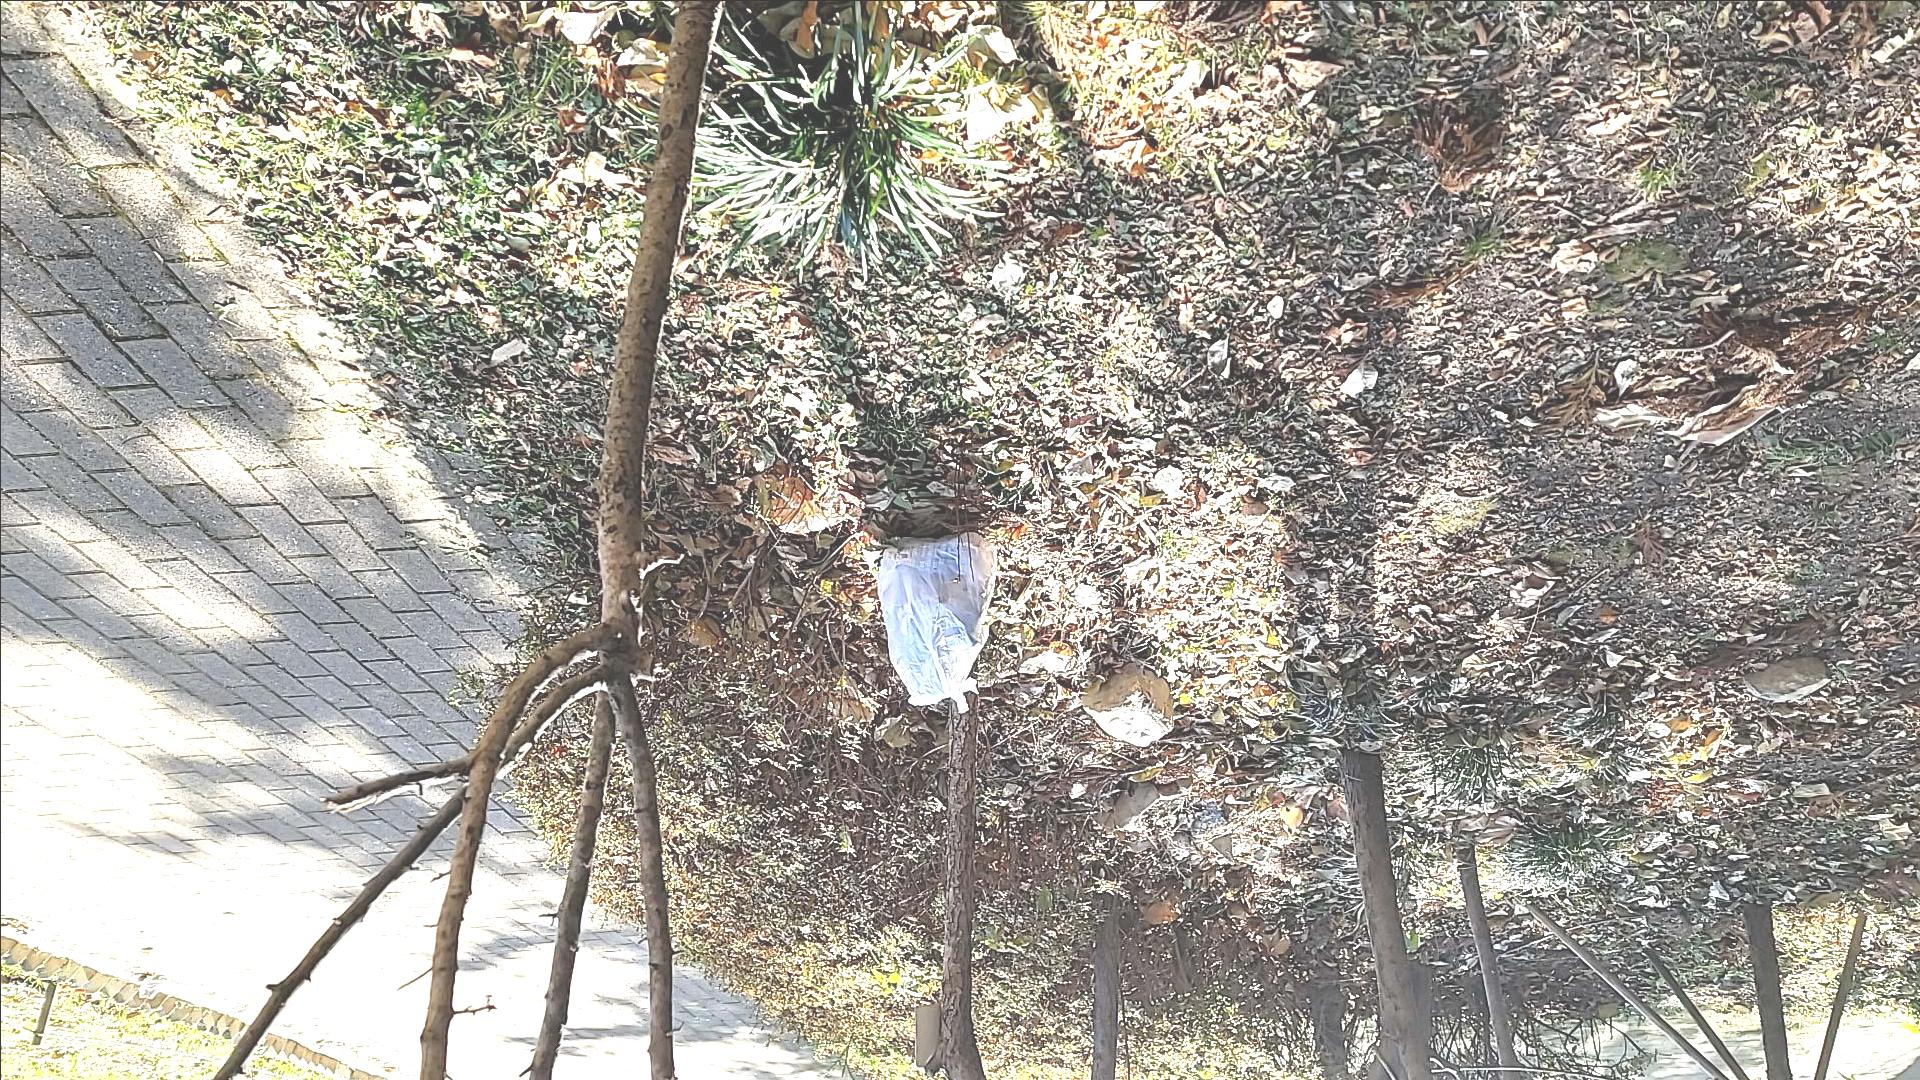white_bag: (847, 518, 1011, 717)
